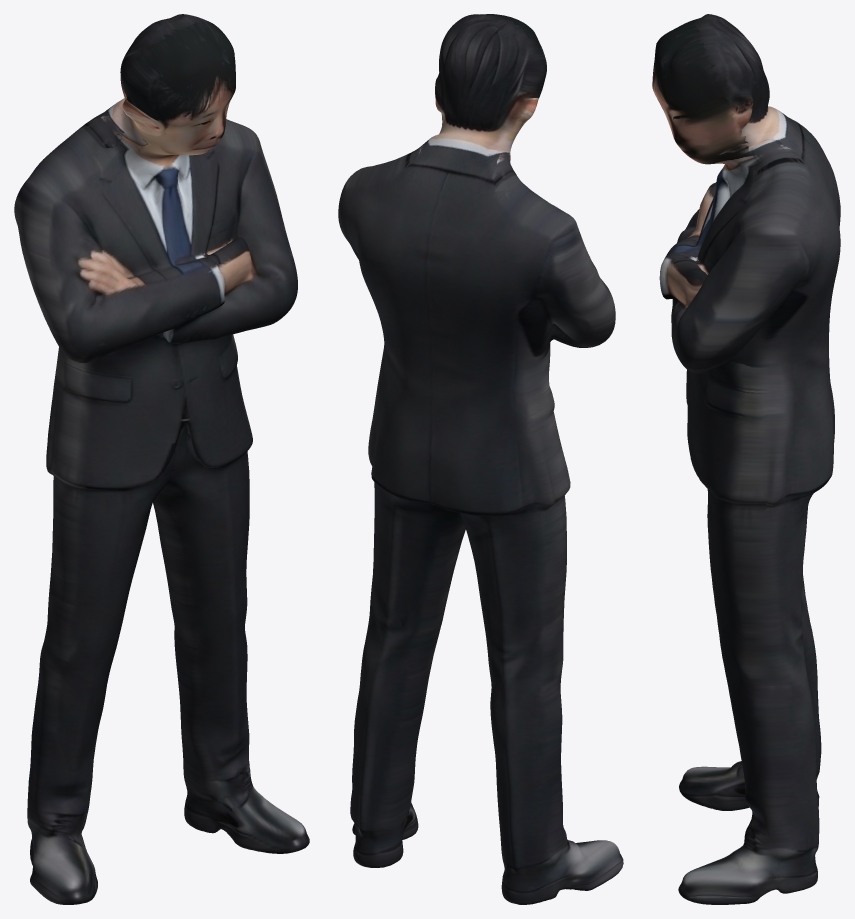
The model's file is Coach1.fbx.
The picture shows the model from 3 angles, left to right: view 1: azimuth 30°, elevation 25°; view 2: azimuth 150°, elevation 25°; view 3: azimuth 270°, elevation 25°; orthographic projection. The views are drawn at different scales.
Parts seen in each view (by area): view 1: Coach1; view 2: Coach1; view 3: Coach1.
Boxes of the visible parts, box(x1,y1,x2,y2) form: Coach1: box(14, 14, 309, 904); Coach1: box(338, 14, 623, 904); Coach1: box(652, 14, 840, 904).
Bounding box in the file's own units: 54.57 × 174 × 35.9.
Materials: 1 (1 with a texture image).
